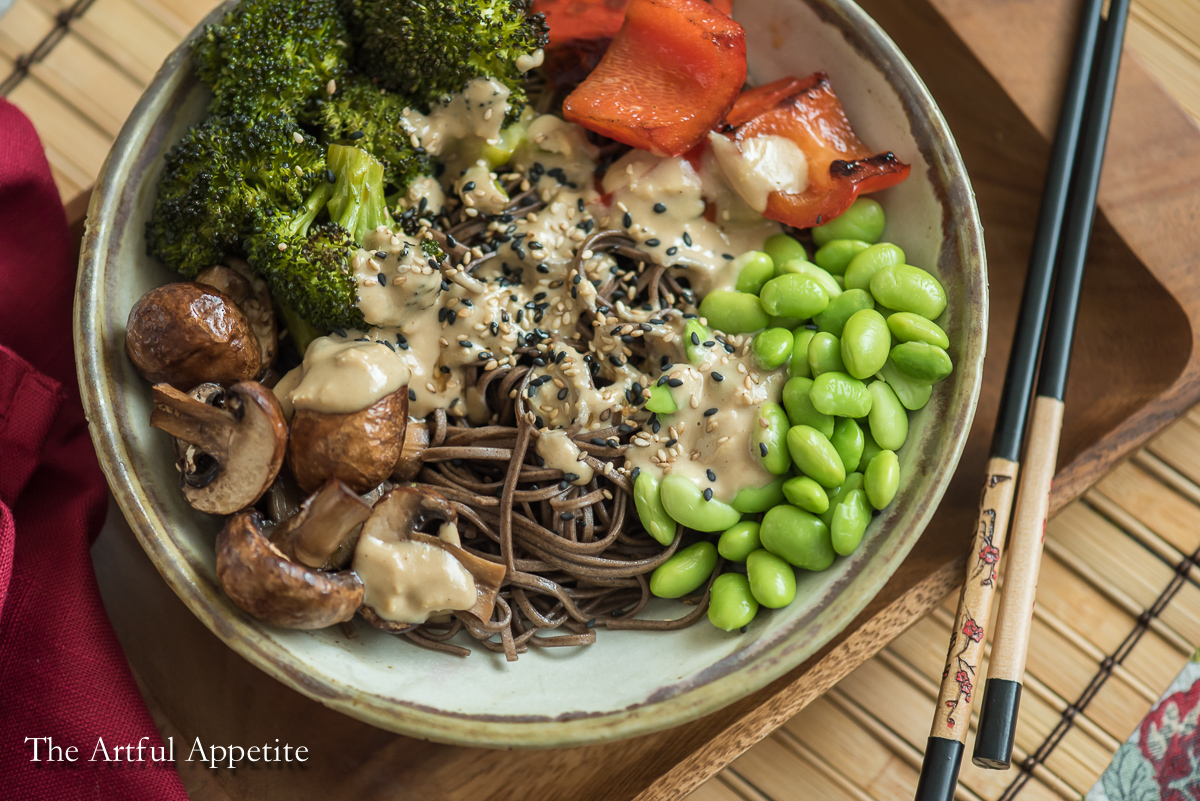Soba: (361, 393, 703, 659)
